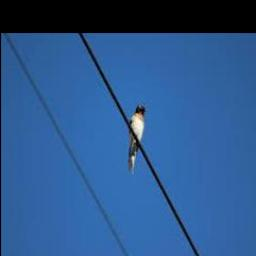Swallow: (126, 104, 146, 174)
